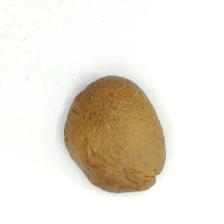NG: (95, 156, 164, 194)
